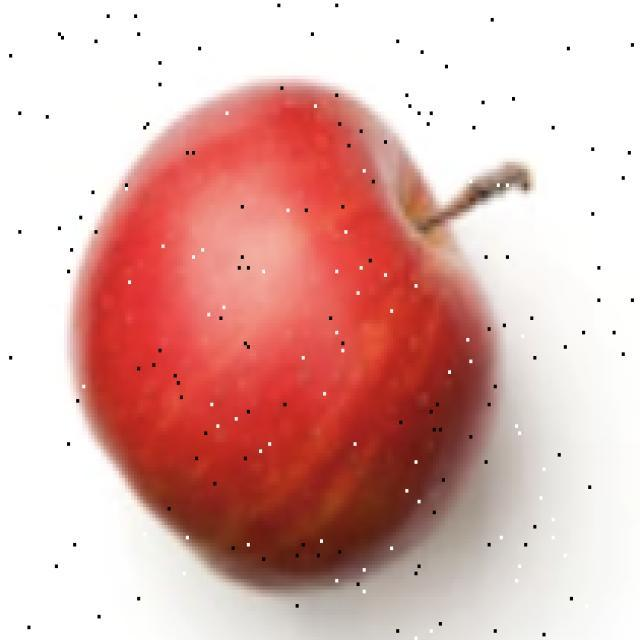Fresh Apple: (83, 89, 487, 594)
